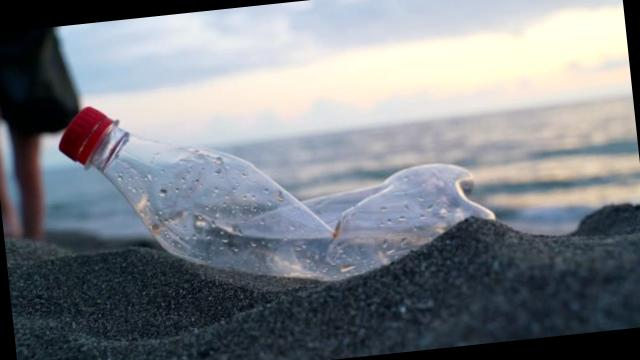plastic: (38, 57, 506, 338)
